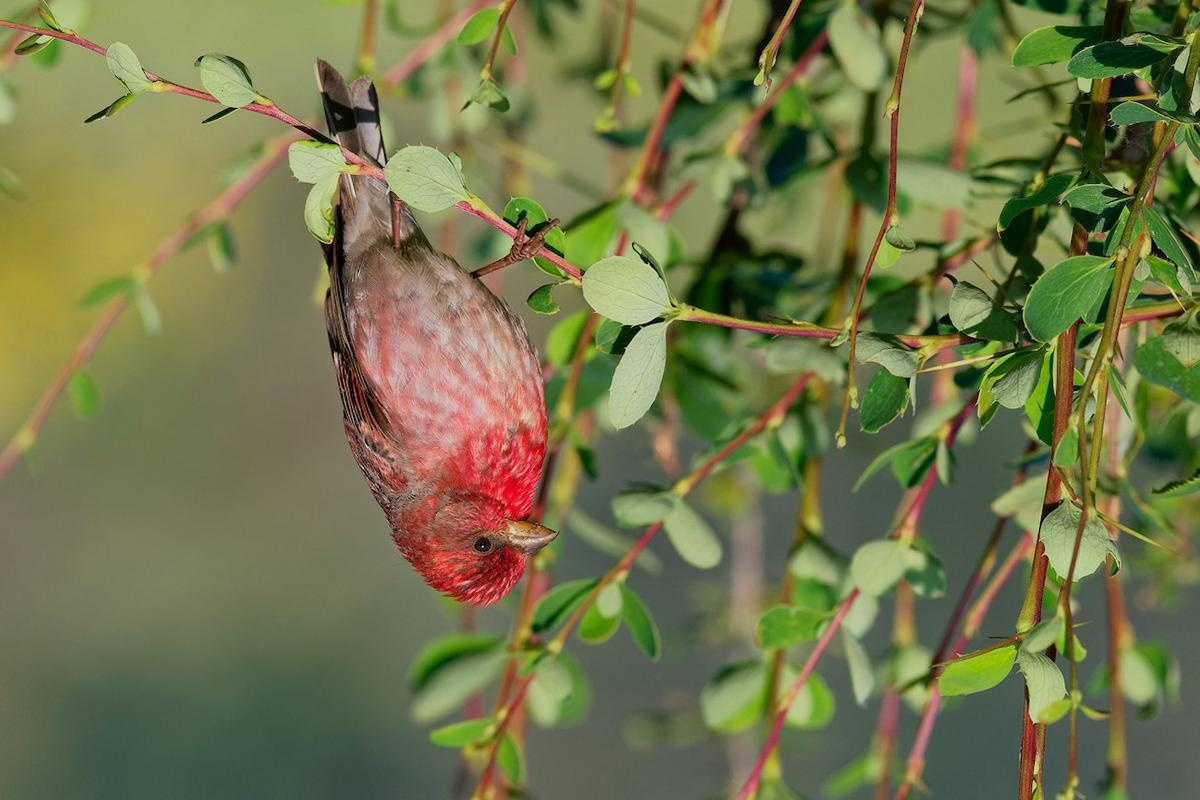rosefinch: (277, 94, 591, 598)
